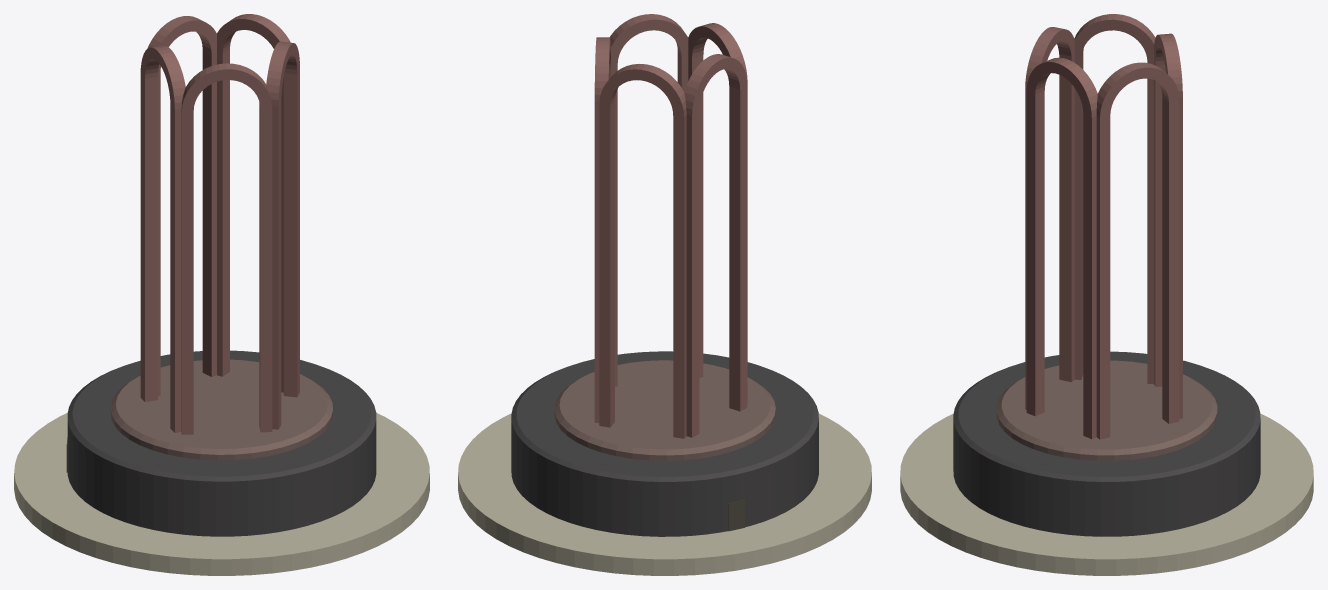
Rendered from mausoleum-carol-park-near.glb.
The picture shows the model from 3 angles, left to right: view 1: azimuth 30°, elevation 25°; view 2: azimuth 150°, elevation 25°; view 3: azimuth 270°, elevation 25°; orthographic projection.
Visible parts, largest first — view 1: mausoleum-carol-park-0-arch, mausoleum-carol-park-0-granite, mausoleum-carol-park-0-marble, mausoleum-carol-park-0-cap; view 2: mausoleum-carol-park-0-arch, mausoleum-carol-park-0-granite, mausoleum-carol-park-0-marble, mausoleum-carol-park-0-cap; view 3: mausoleum-carol-park-0-arch, mausoleum-carol-park-0-granite, mausoleum-carol-park-0-marble, mausoleum-carol-park-0-cap.
Boxes of the visible parts, box(x1,y1,x2,y2) form: mausoleum-carol-park-0-arch: box(140, 14, 299, 434); mausoleum-carol-park-0-granite: box(67, 350, 376, 536); mausoleum-carol-park-0-marble: box(14, 413, 429, 575); mausoleum-carol-park-0-cap: box(110, 359, 332, 460); mausoleum-carol-park-0-arch: box(594, 14, 747, 438); mausoleum-carol-park-0-granite: box(511, 351, 818, 536); mausoleum-carol-park-0-marble: box(458, 413, 871, 575); mausoleum-carol-park-0-cap: box(554, 360, 775, 460); mausoleum-carol-park-0-arch: box(1025, 14, 1182, 439); mausoleum-carol-park-0-granite: box(953, 351, 1260, 536); mausoleum-carol-park-0-marble: box(900, 413, 1313, 575); mausoleum-carol-park-0-cap: box(996, 360, 1217, 460).
Size of the model in its own units: 40.35 by 48 by 40.35.
